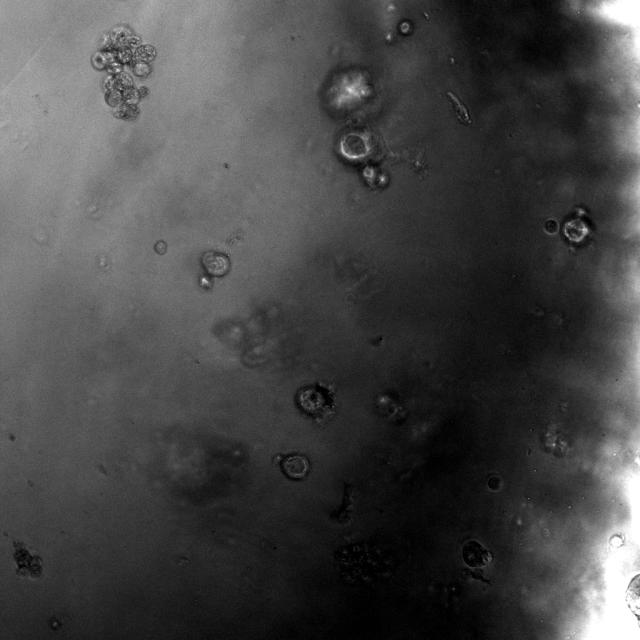organoid: (321, 66, 389, 188), (90, 24, 157, 121), (296, 383, 335, 422), (559, 206, 594, 246), (461, 539, 492, 583), (199, 250, 230, 289), (13, 541, 43, 578), (281, 454, 309, 478), (626, 574, 639, 619), (486, 475, 502, 492), (544, 218, 559, 234), (154, 239, 167, 254)
